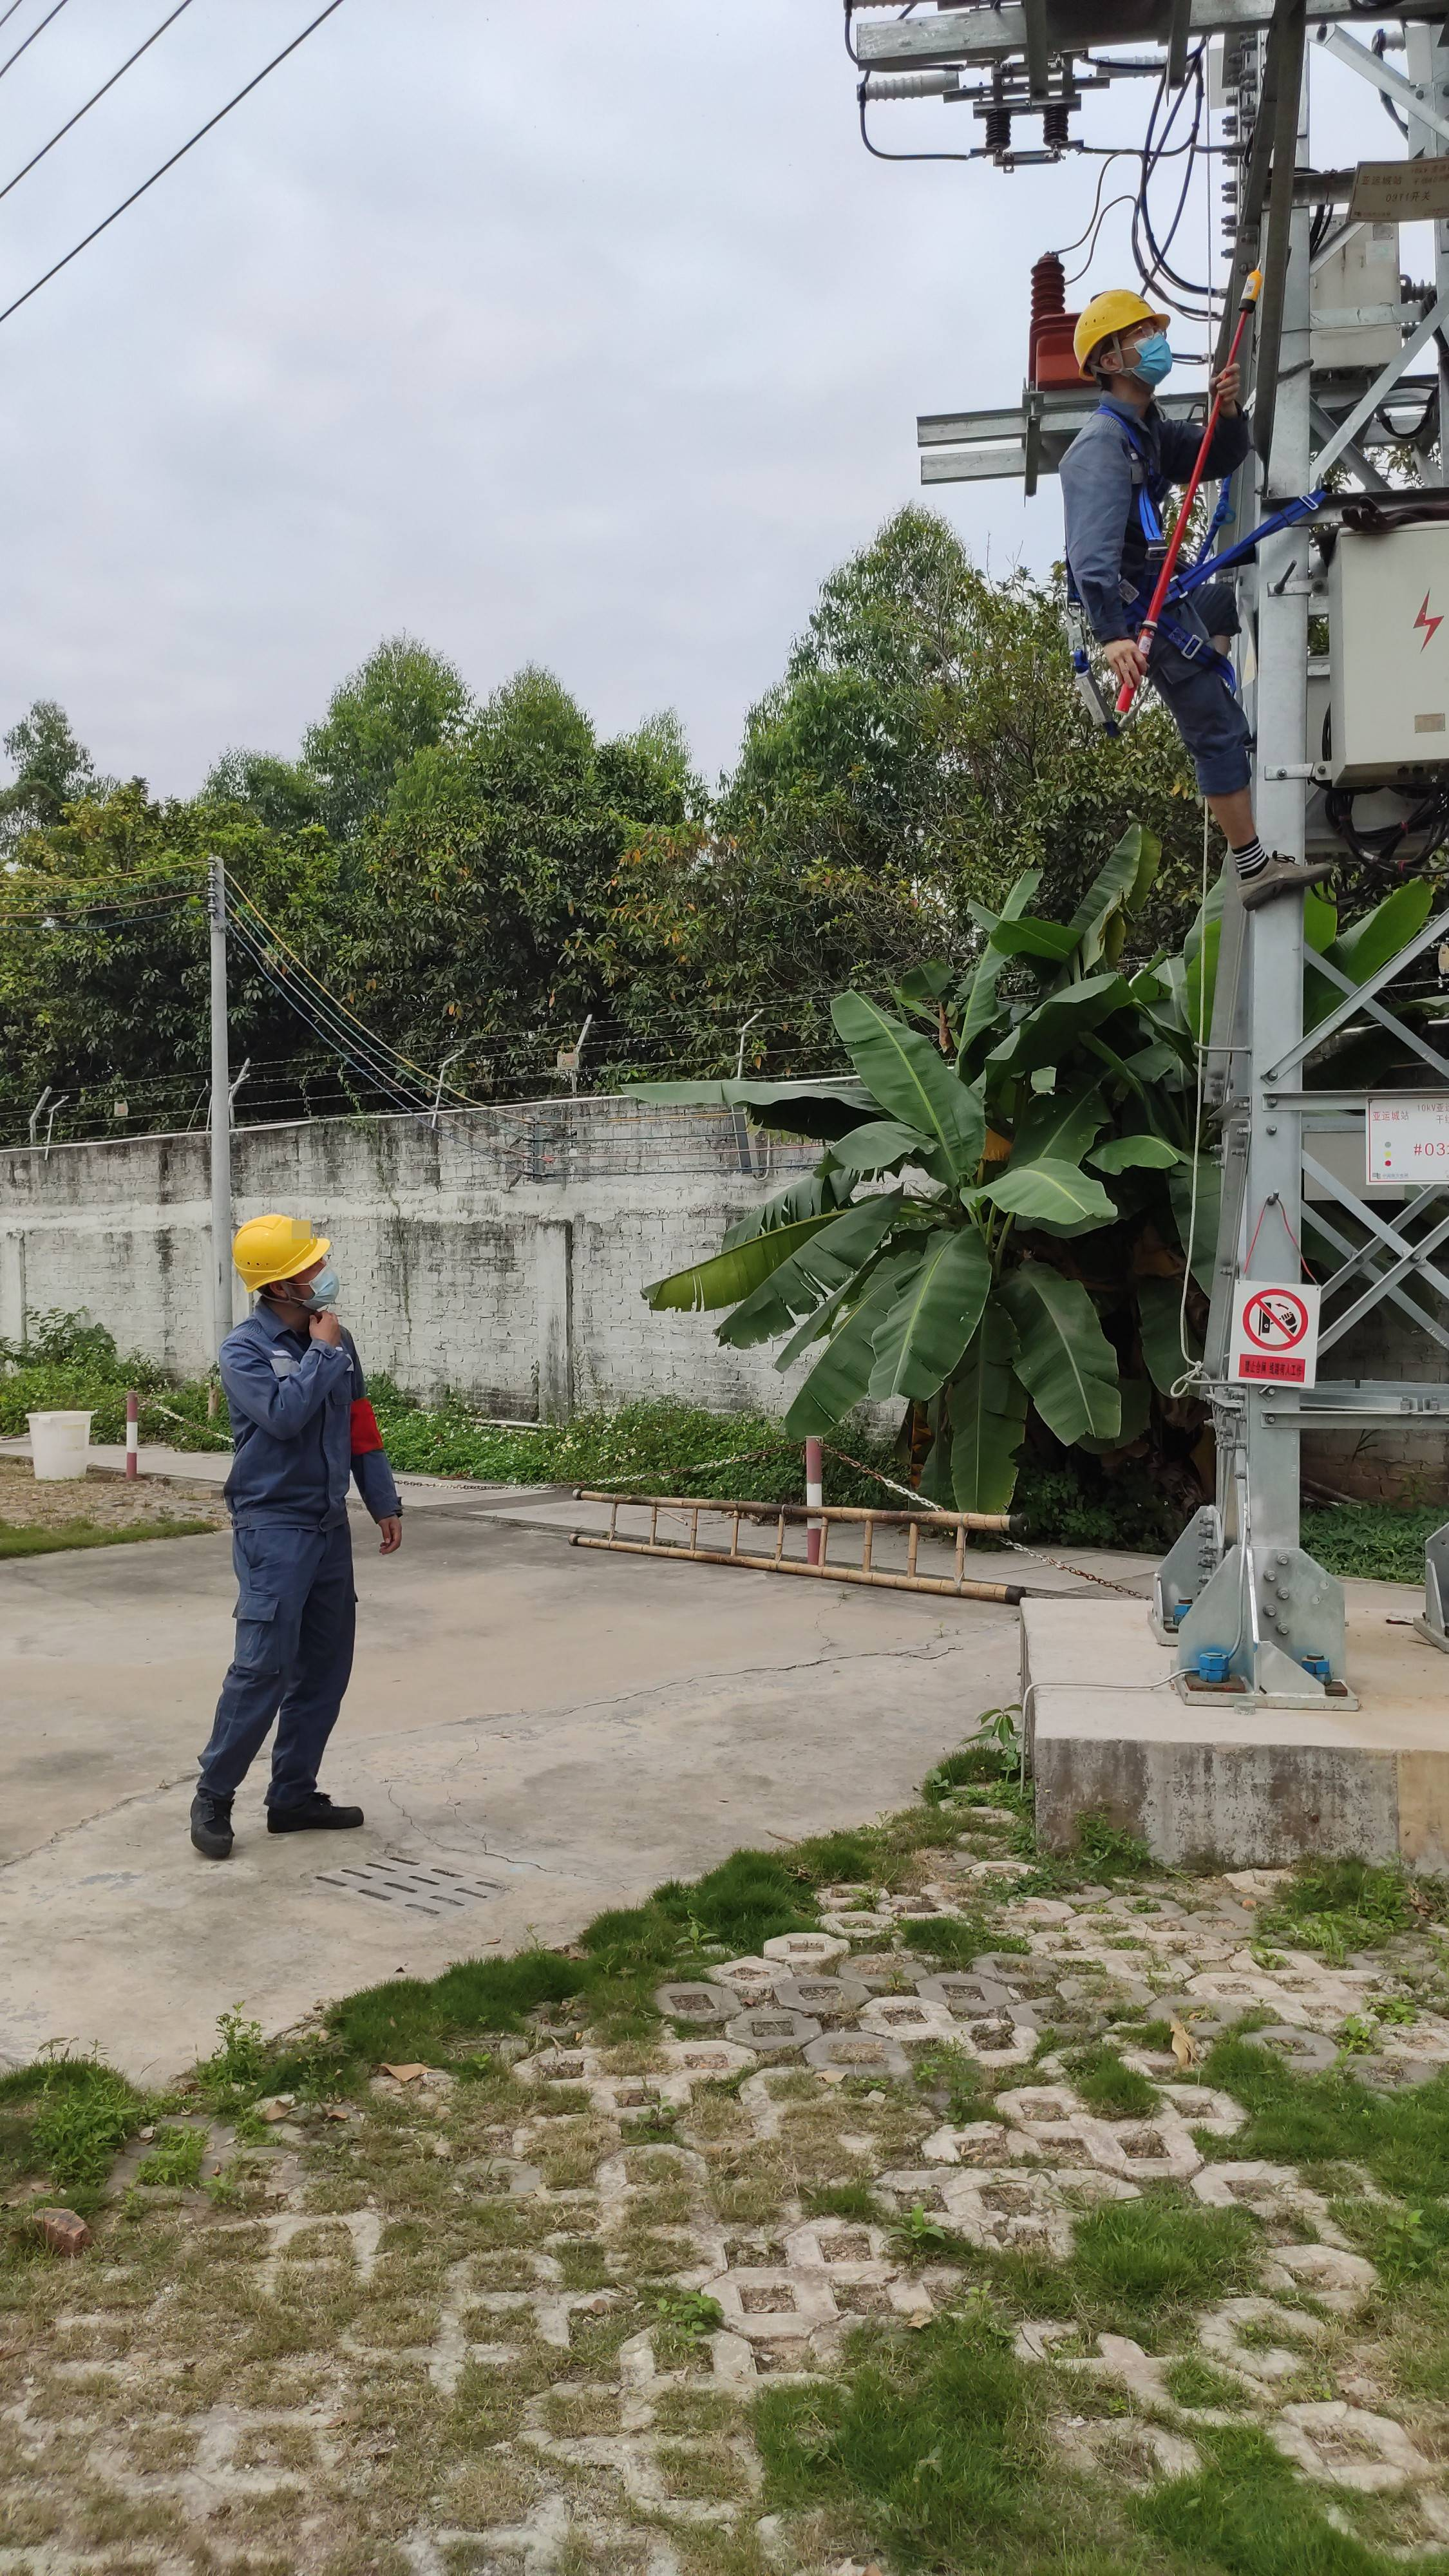downsuit: (198, 1537, 363, 1810)
upsuit: (212, 1315, 400, 1529), (1056, 396, 1215, 602)
wrongbottom: (1198, 745, 1265, 862)
